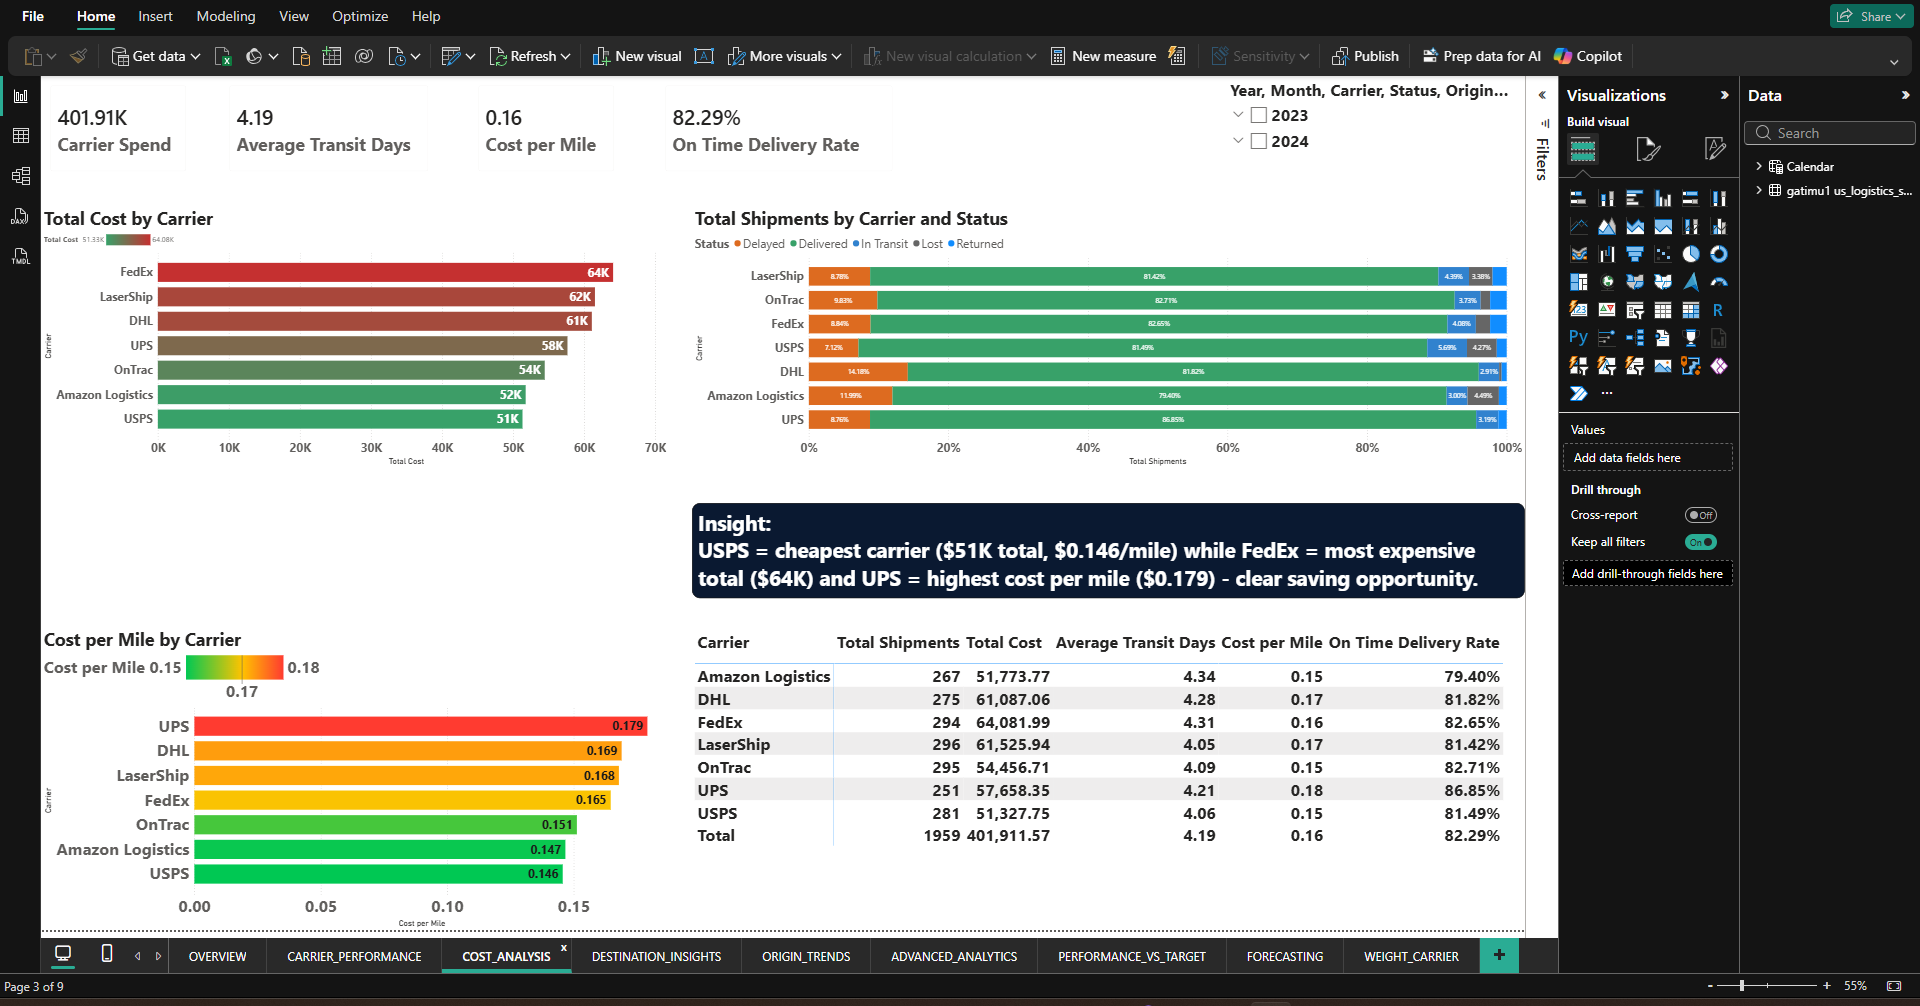

The dashboard page shown, as its layout file describes it:
{"tool":"powerbi","page":{"name":"COST_ANALYSIS","canvas":[2680,1542],"ordinal":2},"visuals":[{"type":"cardVisual","fields":{"Data":["Calendar.Carrier Spend"]},"box":[0,0,279.9,189.6],"z":0},{"type":"cardVisual","fields":{"Data":["Calendar.Average Transit Days"]},"box":[323.3,0,393.7,189.6],"z":1000},{"type":"cardVisual","fields":{"Data":["Calendar.Cost per Mile"]},"box":[772.9,0,279.9,189.6],"z":2000},{"type":"cardVisual","fields":{"Data":["Calendar.On Time Delivery Rate"]},"box":[1110.6,0,444.3,189.6],"z":3000},{"type":"clusteredBarChart","fields":{"Category":["gatimu1 us_logistics_shipments.Carrier"],"Y":["Calendar.Total Cost"]},"box":[0,234.8,1134.1,475],"z":4000},{"type":"hundredPercentStackedBarChart","fields":{"Category":["gatimu1 us_logistics_shipments.Carrier"],"Series":["gatimu1 us_logistics_shipments.Status"],"Y":["Calendar.Total Shipments"]},"box":[1175.7,234.8,1504.3,475],"z":5000},{"type":"pivotTable","fields":{"Rows":["gatimu1 us_logistics_shipments.Carrier"],"Values":["Calendar.Total Shipments","Calendar.Total Cost","Calendar.Average Transit Days","Calendar.Cost per Mile","Calendar.On Time Delivery Rate"]},"box":[1175.7,995.1,1504.3,547.2],"z":6000},{"type":"slicer","fields":{"Values":["Calendar.Year","Calendar.Month","gatimu1 us_logistics_shipments.Carrier","gatimu1 us_logistics_shipments.Status","gatimu1 us_logistics_shipments.Origin_warehouse","gatimu1 us_logistics_shipments.Destination"]},"box":[2134.6,0,545.4,189.6],"z":7000},{"type":"barChart","fields":{"Y":["Calendar.Cost per Mile"],"Category":["gatimu1 us_logistics_shipments.Carrier"]},"box":[0,995.1,1134.1,547.2],"z":8000},{"type":"textbox","box":[1175.7,771.1,1504.3,171.6],"z":9000}]}

Visuals, with their boxes on the page's 2680x1542 design canvas (x1, y1, x2, y2). These are canvas units, not pixel positions in the 1920x1006 screenshot, which may show the page scaled, cropped or inside an application window:
cardVisual - Calendar.Carrier Spend: (0, 0, 280, 190)
cardVisual - Calendar.Average Transit Days: (323, 0, 717, 190)
cardVisual - Calendar.Cost per Mile: (773, 0, 1053, 190)
cardVisual - Calendar.On Time Delivery Rate: (1111, 0, 1555, 190)
clusteredBarChart - gatimu1 us_logistics_shipments.Carrier x Calendar.Total Cost: (0, 235, 1134, 710)
hundredPercentStackedBarChart - gatimu1 us_logistics_shipments.Carrier x gatimu1 us_logistics_shipments.Status: (1176, 235, 2680, 710)
pivotTable - gatimu1 us_logistics_shipments.Carrier x Calendar.Total Shipments: (1176, 995, 2680, 1542)
slicer - Calendar.Year x Calendar.Month: (2135, 0, 2680, 190)
barChart - Calendar.Cost per Mile x gatimu1 us_logistics_shipments.Carrier: (0, 995, 1134, 1542)
textbox: (1176, 771, 2680, 943)
